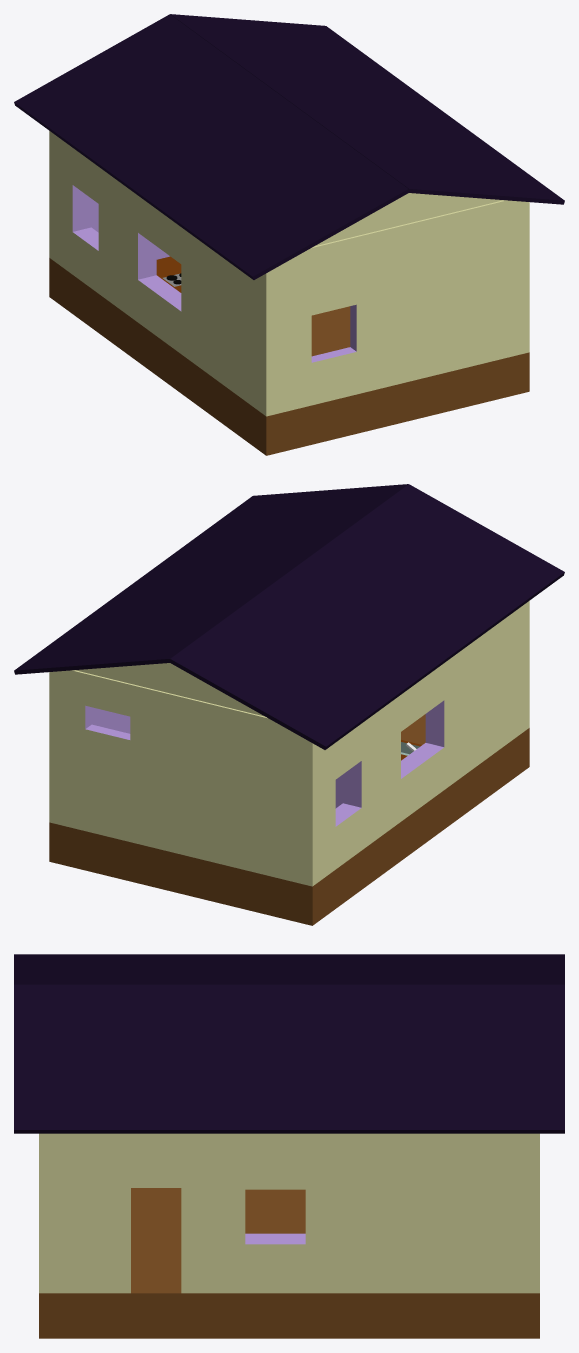
File: House.glb
3 views of the same model, one above another, from view 1: azimuth 30°, elevation 25°; view 2: azimuth 150°, elevation 25°; view 3: azimuth 270°, elevation 25° (orthographic). The views are drawn at different scales.
Parts seen in each view (by area): view 1: Cube.012, Cube.001, Cube.004, Cube, Cube.013, Cube.002; view 2: Cube.012, Cube.002, Cube.004, Cube, Cube.013, Cube.001, Cube.003; view 3: Cube.012, Cube.003, Cube, Cube.001, Cube.002.
Part boxes in pixels (left/top/right/bottom): Cube.012: left=14, top=14, right=564, bottom=279; Cube.001: left=260, top=200, right=529, bottom=416; Cube.004: left=55, top=135, right=259, bottom=411; Cube: left=49, top=258, right=529, bottom=455; Cube.013: left=315, top=193, right=503, bottom=245; Cube.002: left=49, top=131, right=98, bottom=261; Cube.012: left=14, top=484, right=564, bottom=749; Cube.002: left=49, top=670, right=318, bottom=886; Cube.004: left=319, top=606, right=522, bottom=881; Cube: left=49, top=714, right=529, bottom=925; Cube.013: left=75, top=663, right=264, bottom=716; Cube.001: left=523, top=601, right=529, bottom=732; Cube.003: left=91, top=707, right=130, bottom=733; Cube.012: left=14, top=954, right=564, bottom=1133; Cube.003: left=54, top=1133, right=524, bottom=1293; Cube: left=39, top=1188, right=539, bottom=1338; Cube.001: left=39, top=1133, right=54, bottom=1293; Cube.002: left=525, top=1133, right=539, bottom=1293.
Bounding box in the file's own units: 8.3 × 6.17 × 11.
